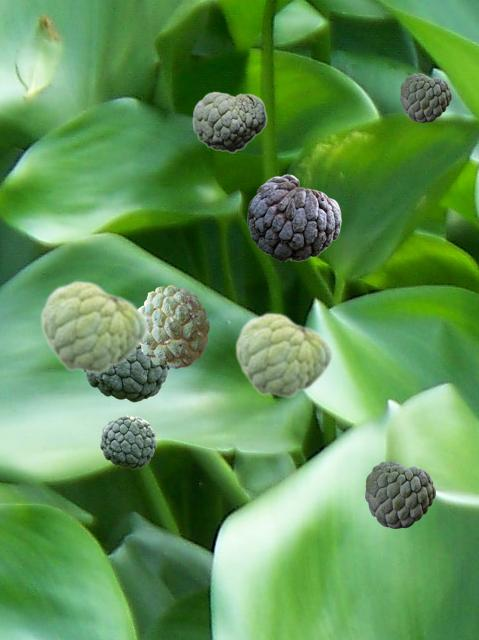atis: (39, 279, 147, 374), (234, 311, 332, 398), (247, 174, 340, 260), (140, 285, 208, 367), (84, 348, 170, 401), (365, 461, 434, 527), (192, 91, 266, 152), (100, 415, 155, 468), (400, 73, 450, 121)
